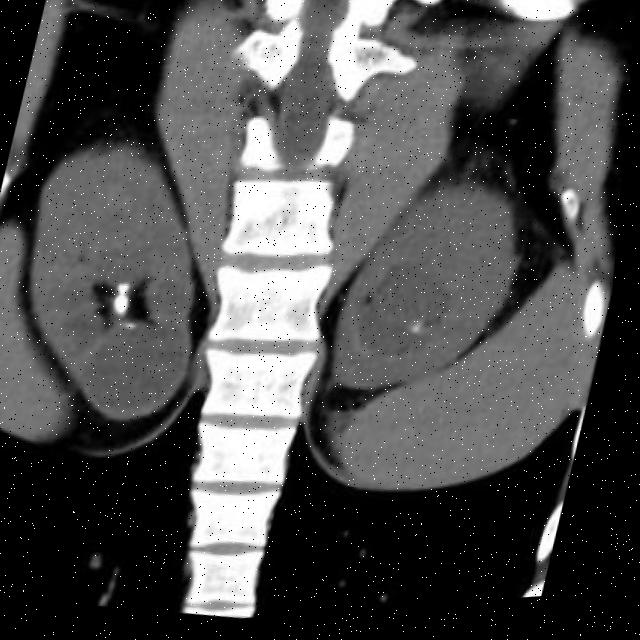Tas_Var: (115, 296, 139, 321), (118, 281, 140, 299), (414, 327, 434, 346), (126, 321, 147, 337)
